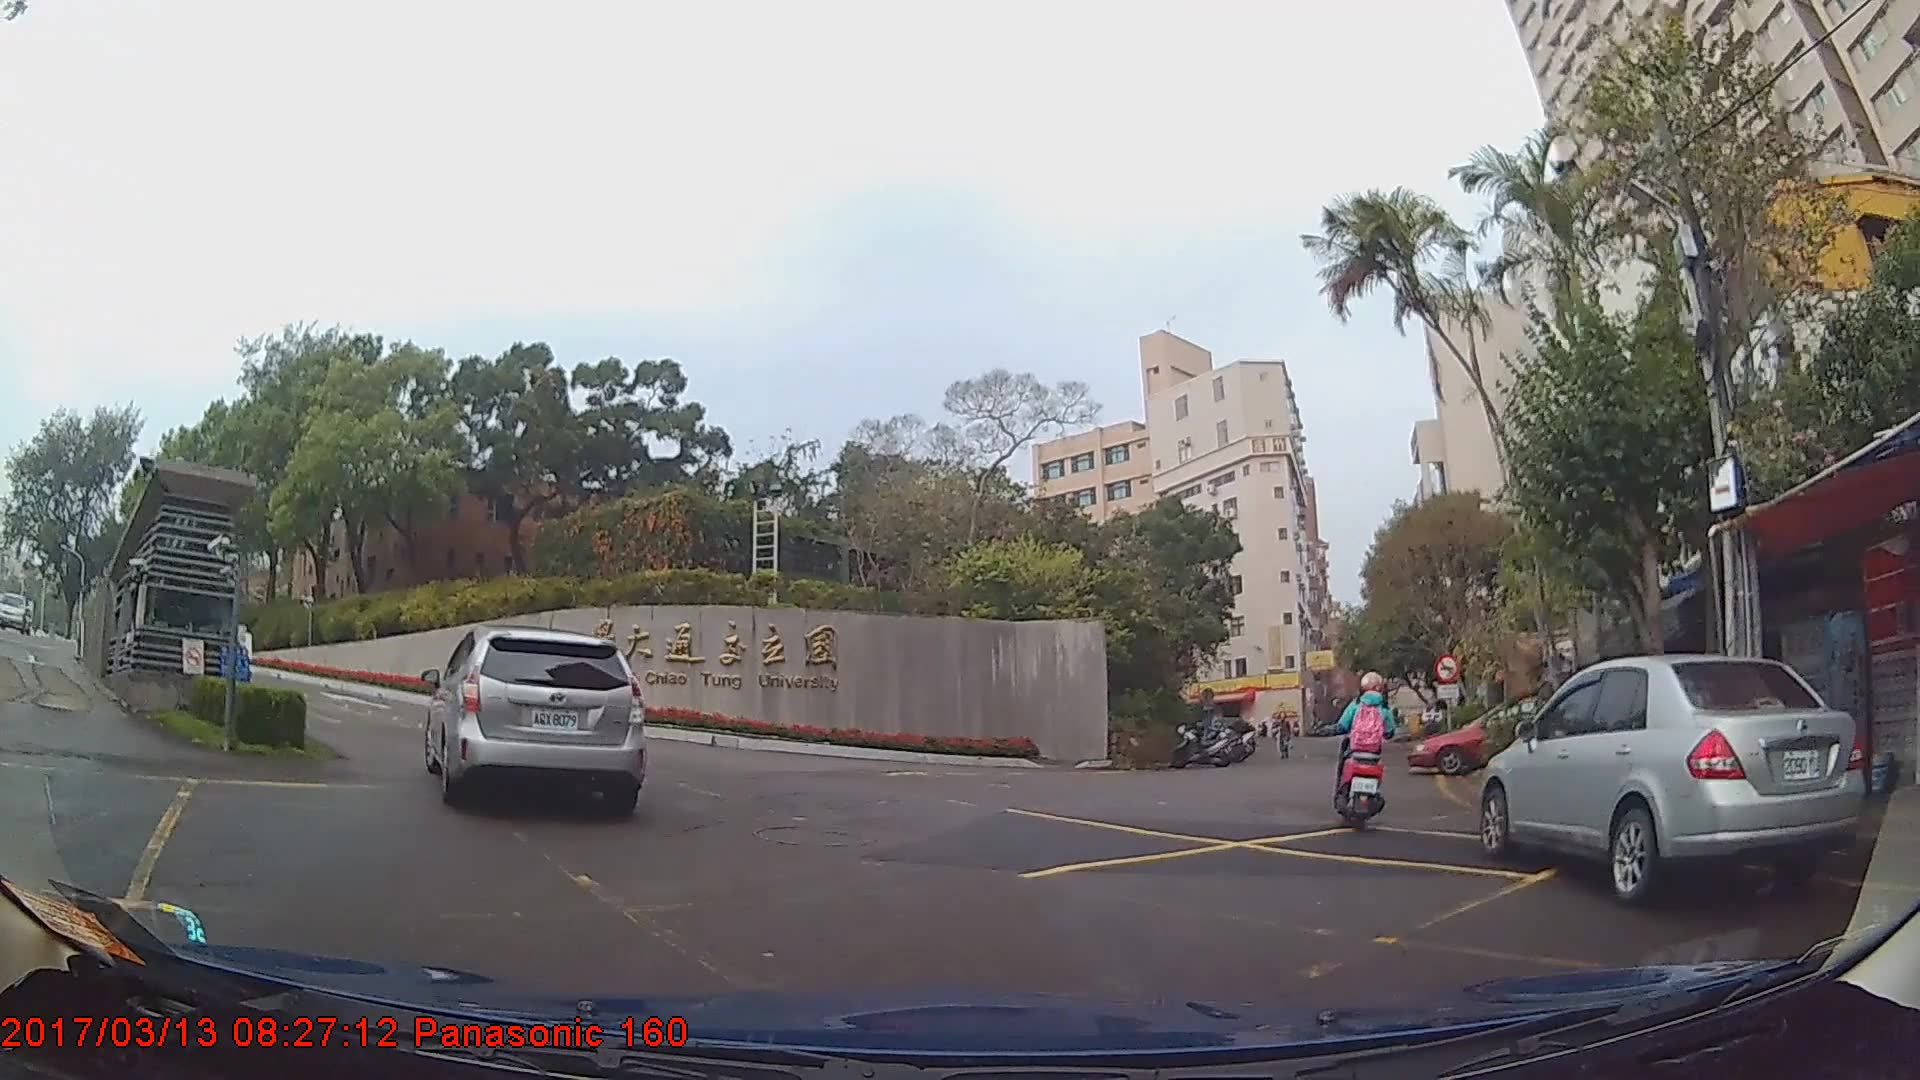pedestrian: (1273, 712, 1294, 762)
rider: (1326, 666, 1396, 835)
vehicle: (1479, 652, 1866, 908), (423, 626, 646, 811), (1408, 692, 1578, 771), (0, 592, 33, 633)
